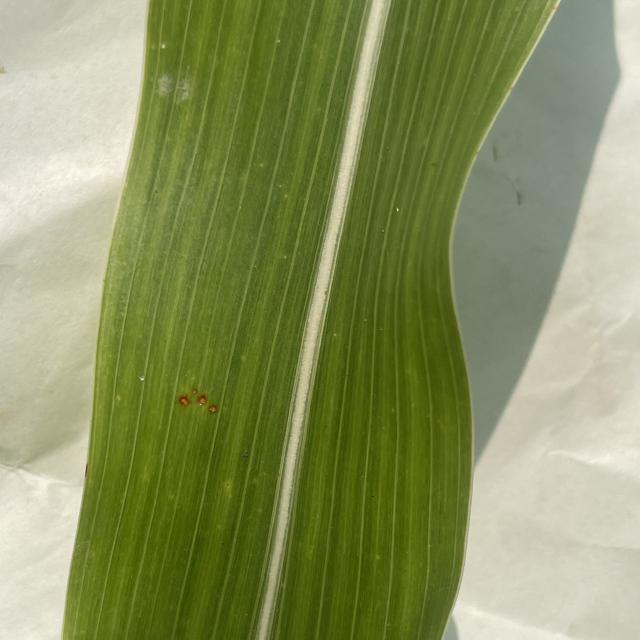millet_healthy: (64, 0, 558, 640)
